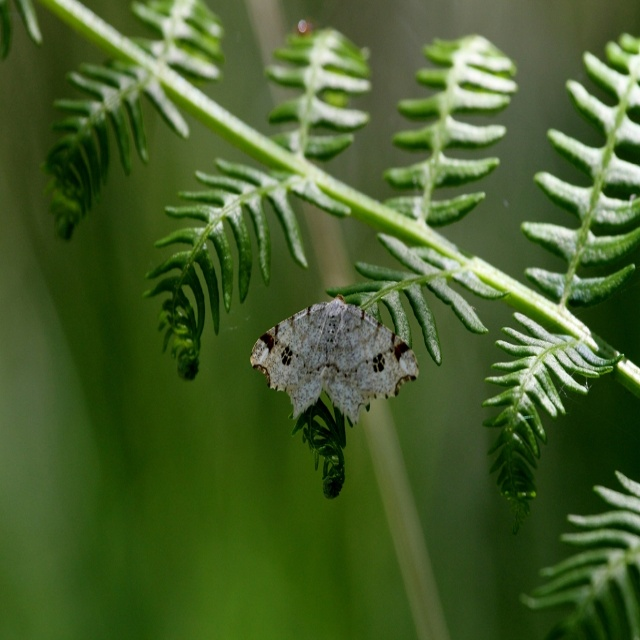Moths and butterflies: (250, 294, 422, 428)
